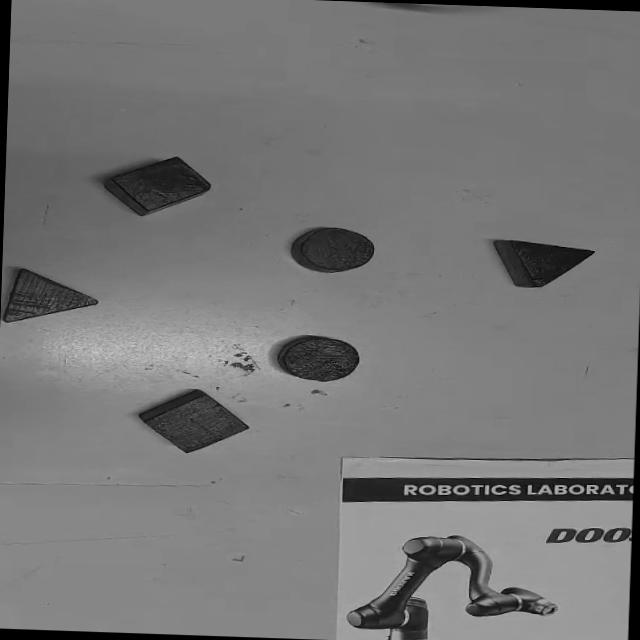bcircle: (277, 334, 361, 383)
bcube: (136, 386, 251, 456), (101, 154, 213, 218)
btriangle: (492, 238, 598, 289)
rcircle: (290, 226, 377, 274)
rtriangle: (1, 266, 100, 326)
